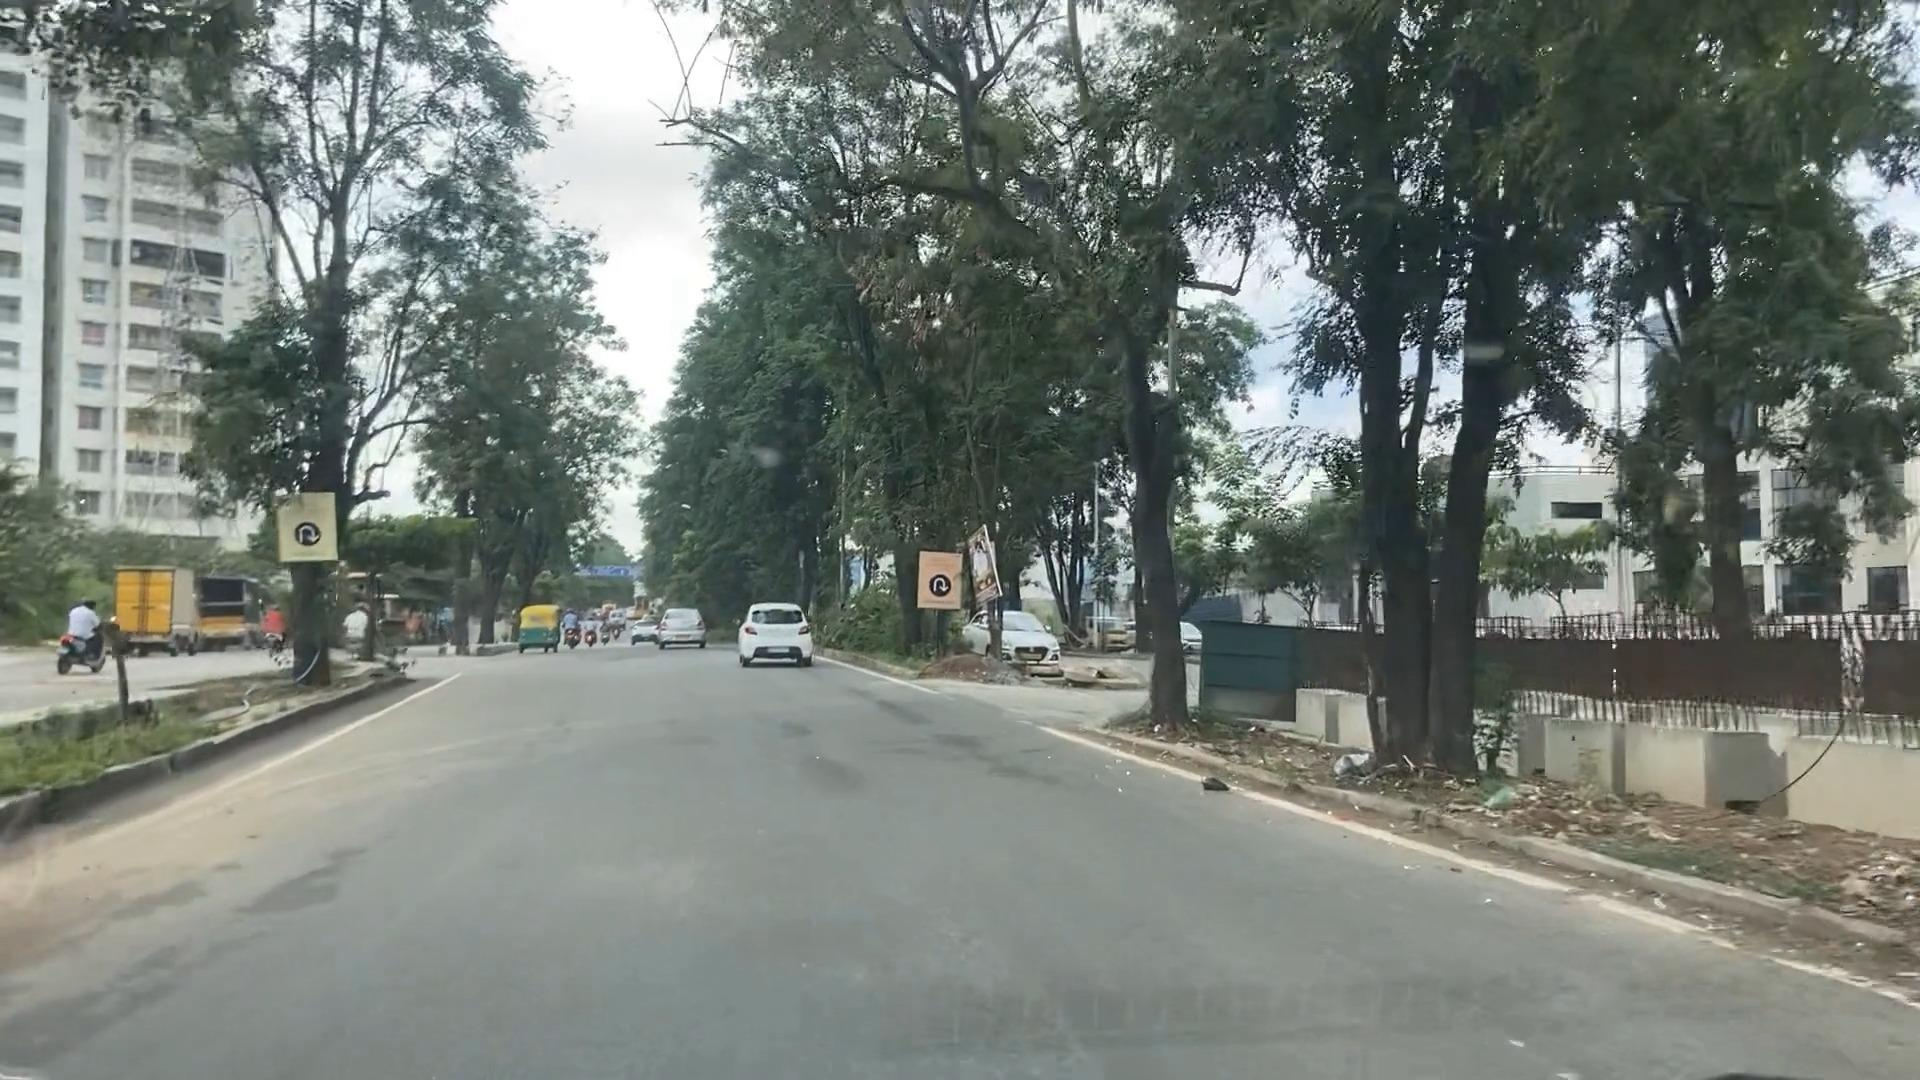LMV: (740, 602, 812, 654), (518, 602, 563, 645), (658, 606, 702, 646)
RoadDamages: (860, 960, 1102, 1052), (80, 828, 185, 963), (6, 982, 195, 1049), (246, 834, 363, 917), (884, 678, 989, 745), (786, 706, 848, 798), (982, 760, 1091, 797)
